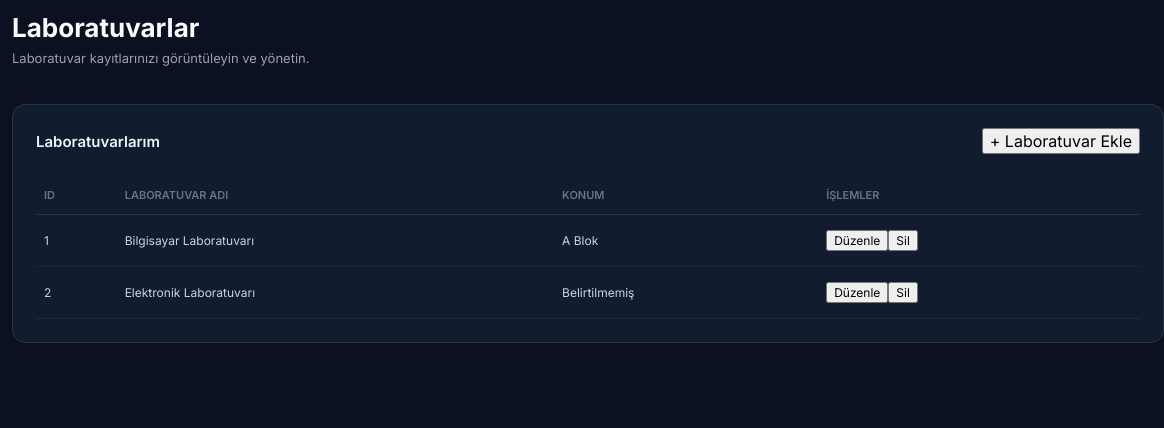
Test: Laboratories component › opens the edit form with existing values
Expected: the text "Bilgisayar Laboratuvarı" is shown, [117,214,554,266]
Click the button "Düzenle" in the row of "Bilgisayar Laboratuvarı" at (857, 240), box [826,230,888,251]
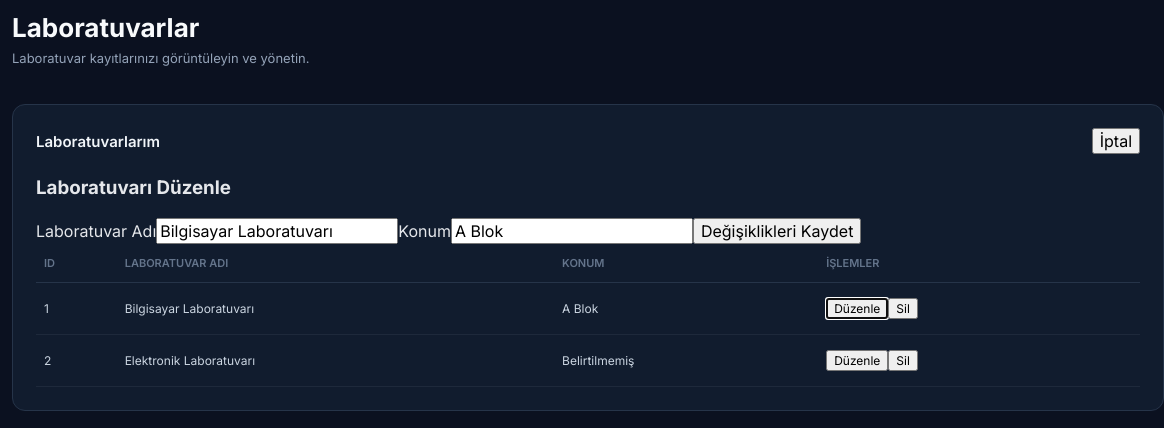
Now the heading "Laboratuvarı Düzenle" is shown, box [36,176,231,199]
Now the field labelled "Laboratuvar Adı" holds "Bilgisayar Laboratuvarı", box [156,218,398,244]
Now the field labelled "Konum" holds "A Blok", box [451,218,693,244]
